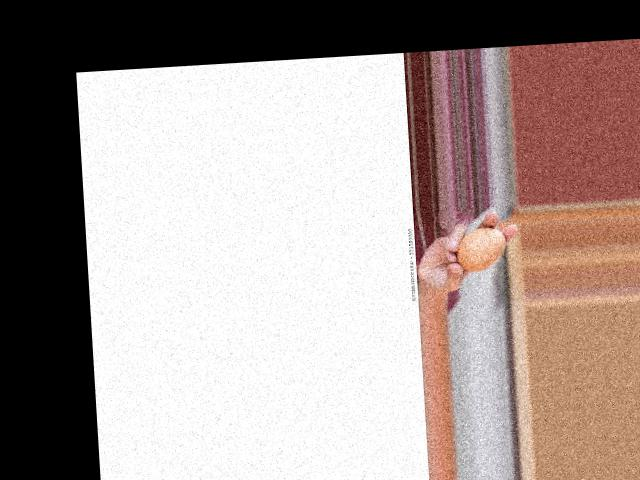egg: (455, 225, 507, 271)
